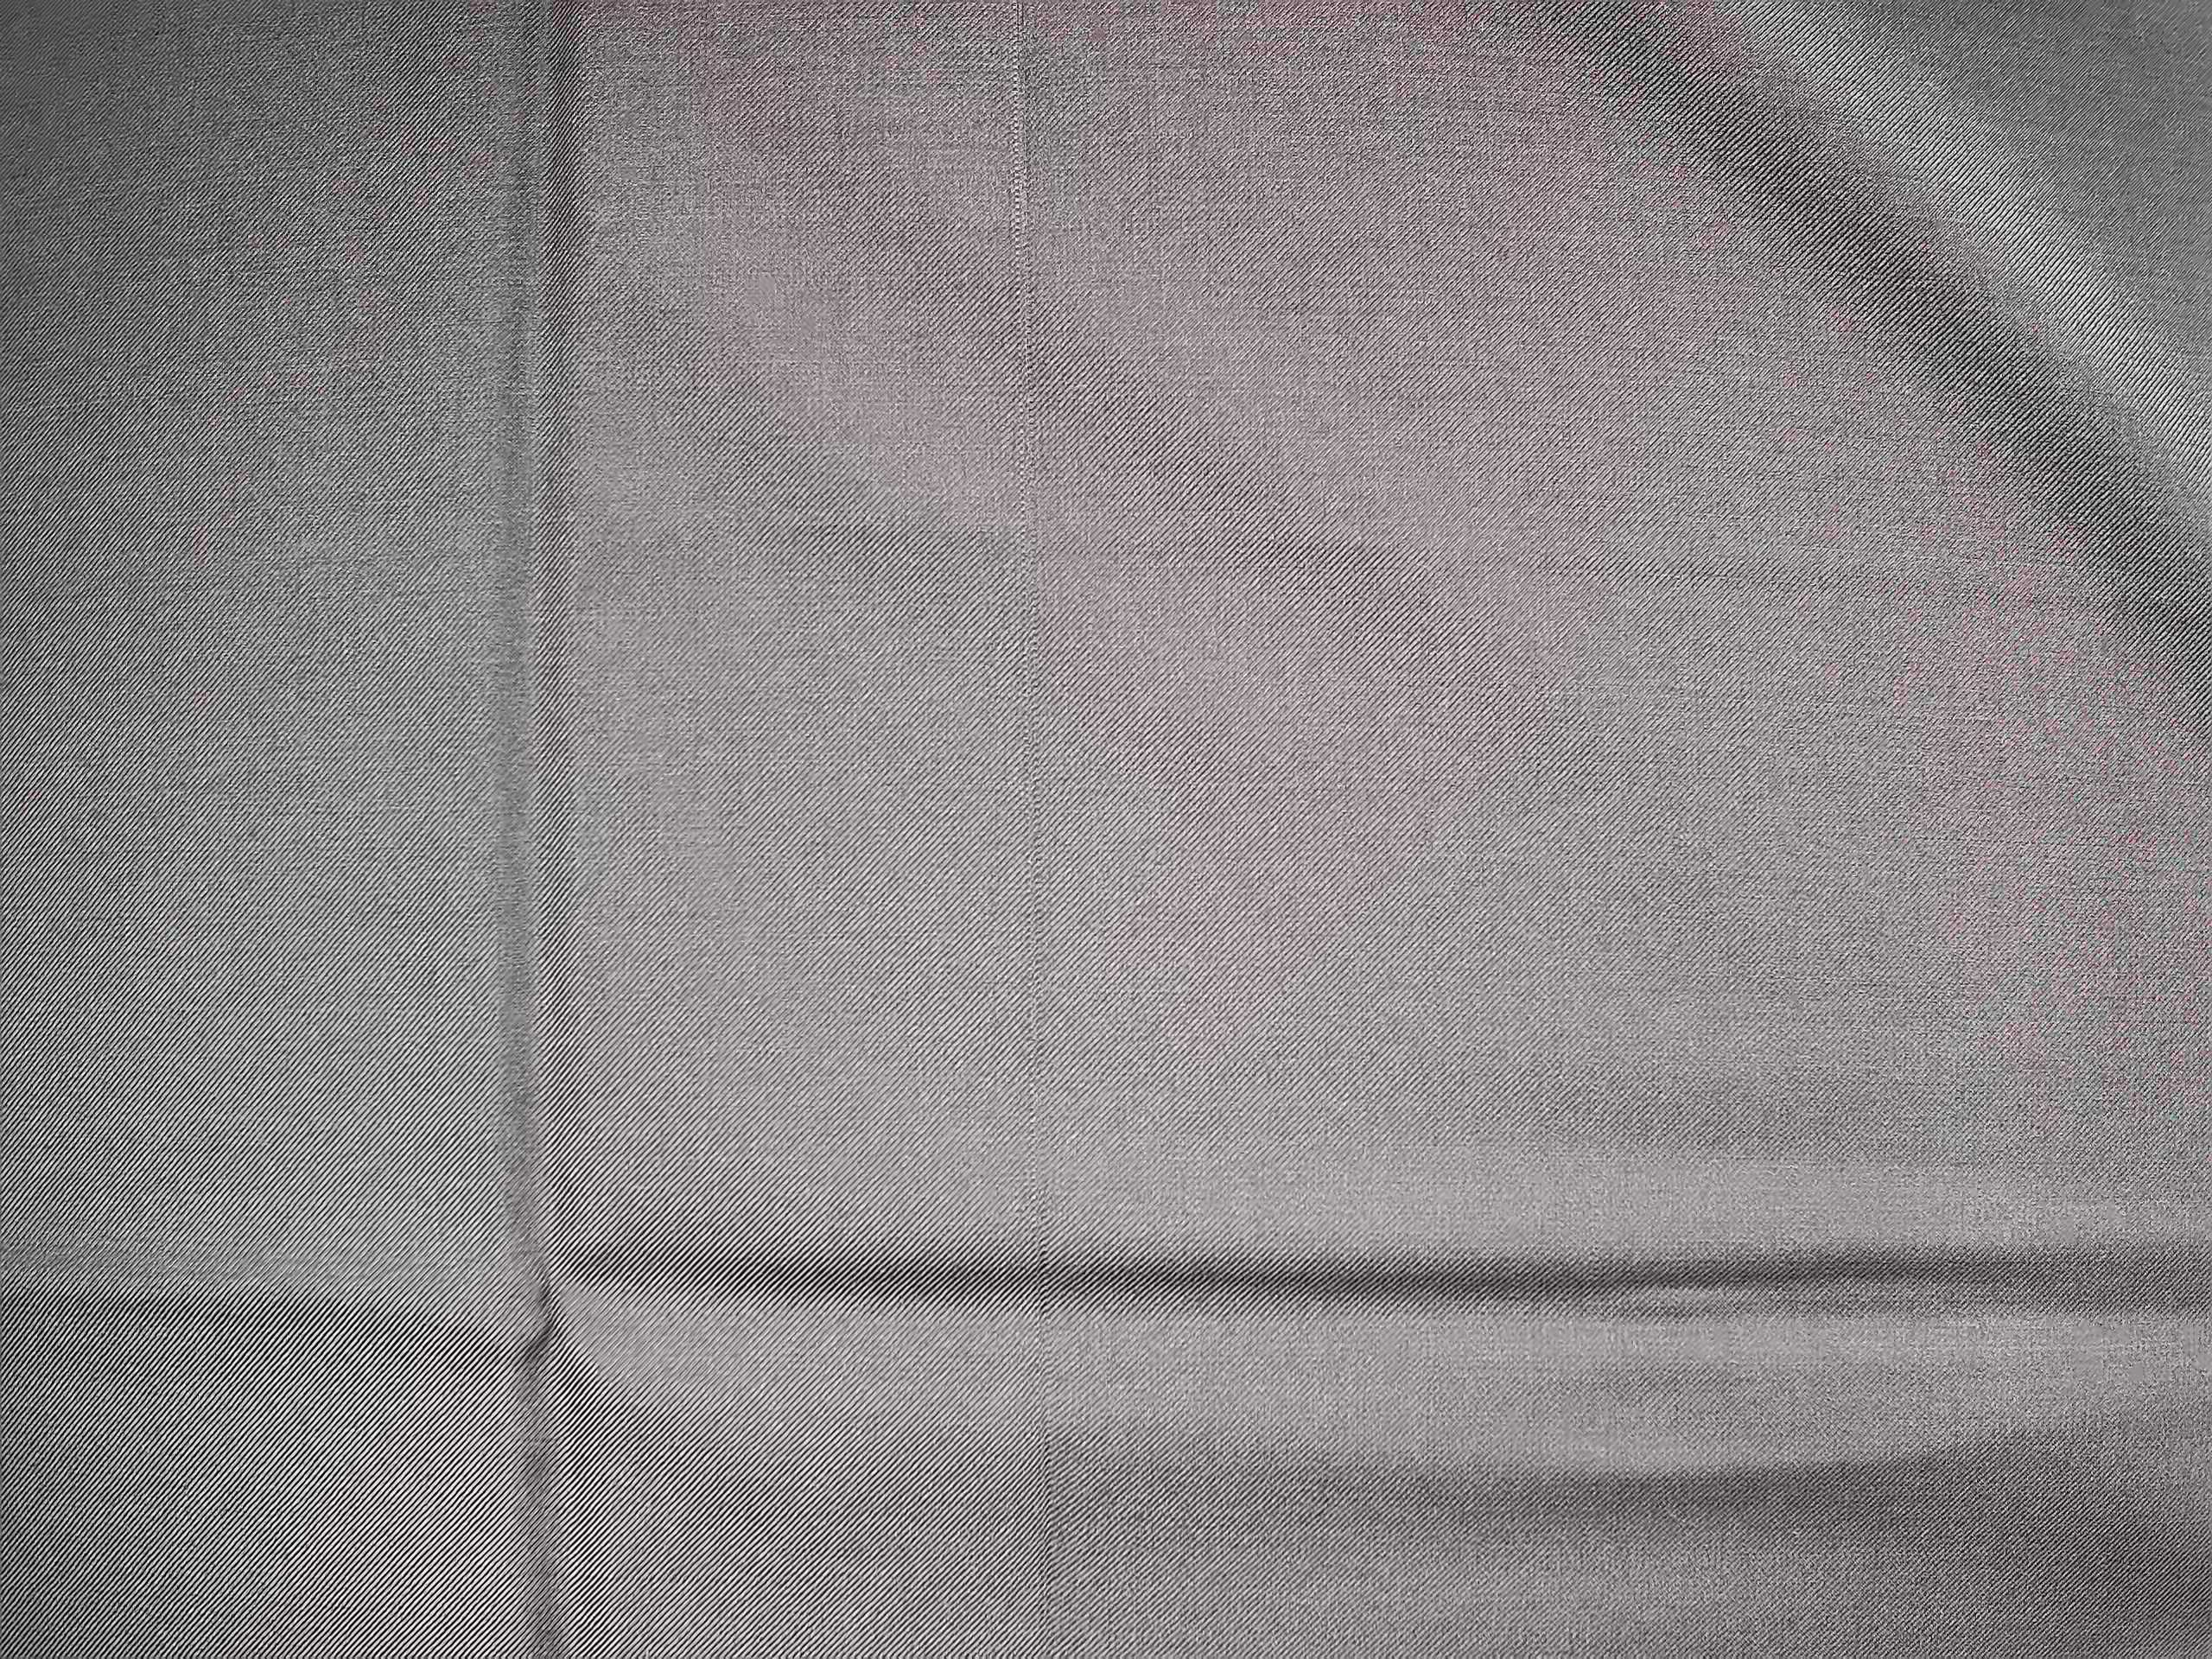hanging-warp: (995, 5, 1083, 1643)
